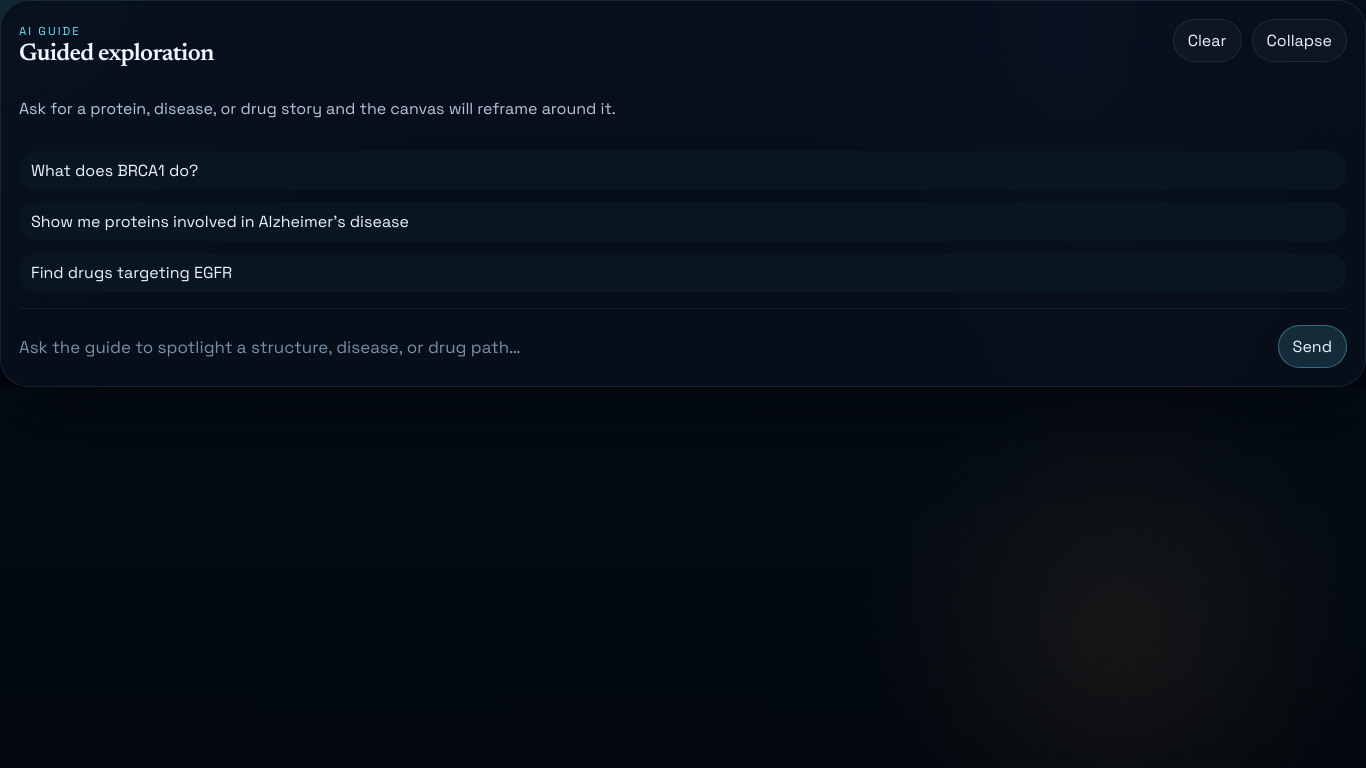
Test: ChatPanel › sends prompts and appends streamed assistant content
Replace the text in the field with placeholder "Ask the guide" with "What does BRCA1 do?" at (642, 346), box [19,336,1266,358]
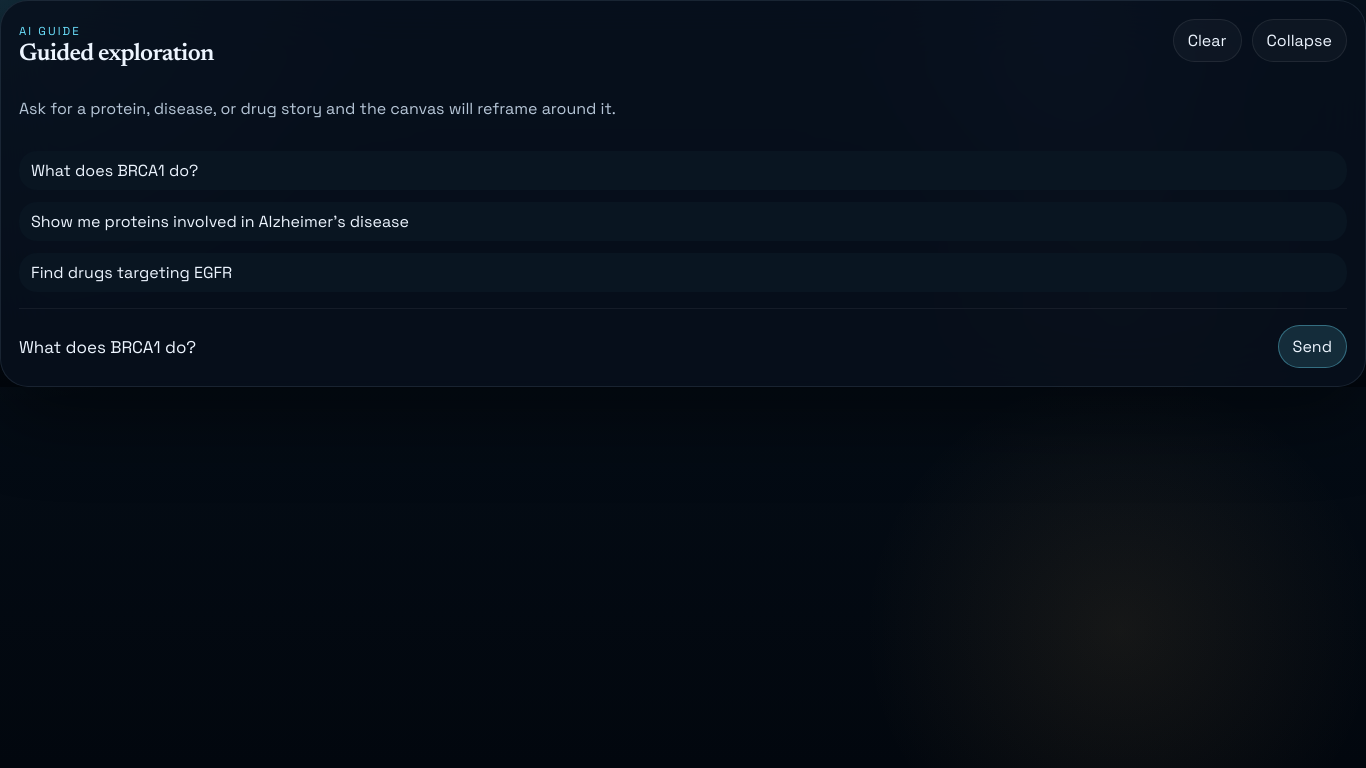
Click the button "Send".
click(1312, 346)  # box [1278,325,1347,368]
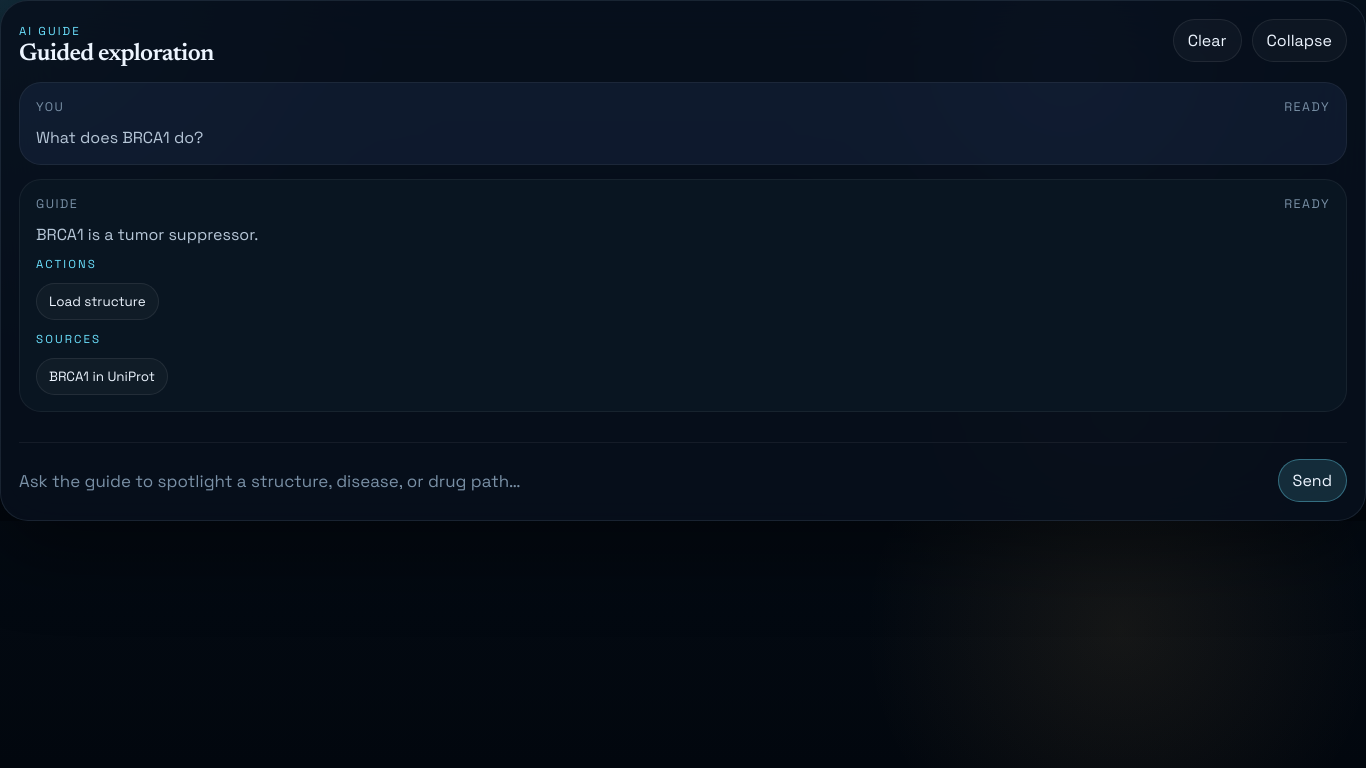
Expected: the text "What does BRCA1 do?" is shown, [36,127,203,148]
Result: the text "BRCA1 is a tumor suppressor." is shown at [36,224,258,245]
